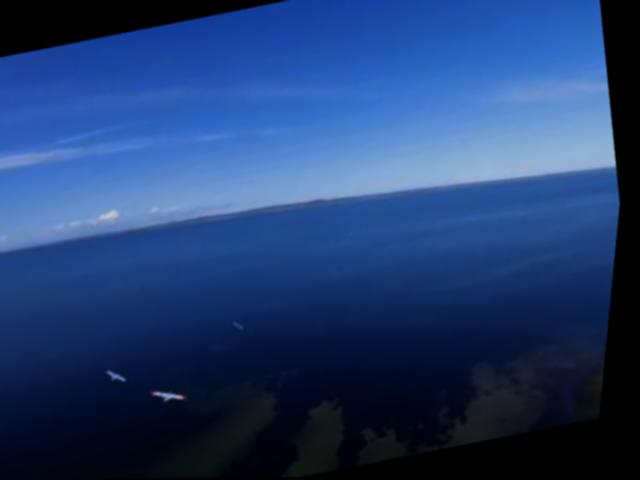uav: (156, 382, 196, 410), (108, 363, 138, 386)
